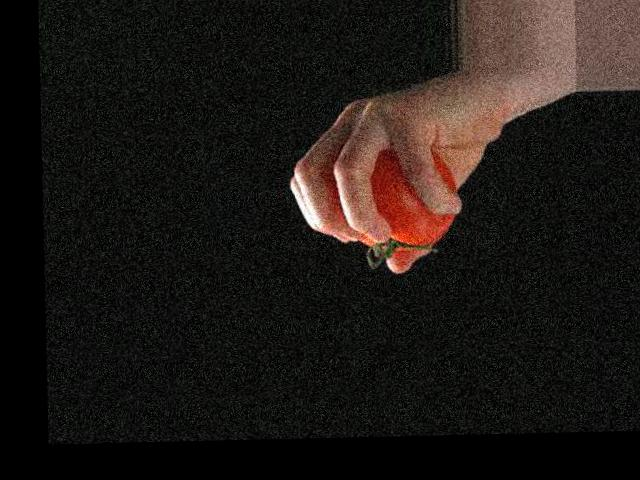tomato: (356, 145, 458, 247)
